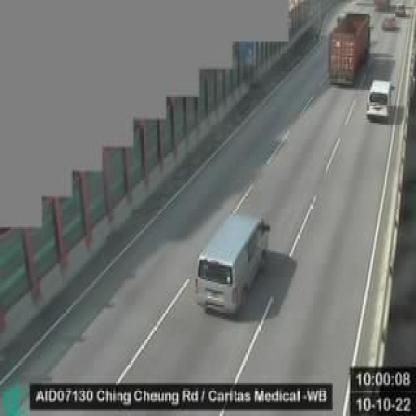Car: (197, 214, 270, 316), (367, 78, 393, 122), (384, 16, 398, 32)
Truck: (328, 5, 371, 82)
